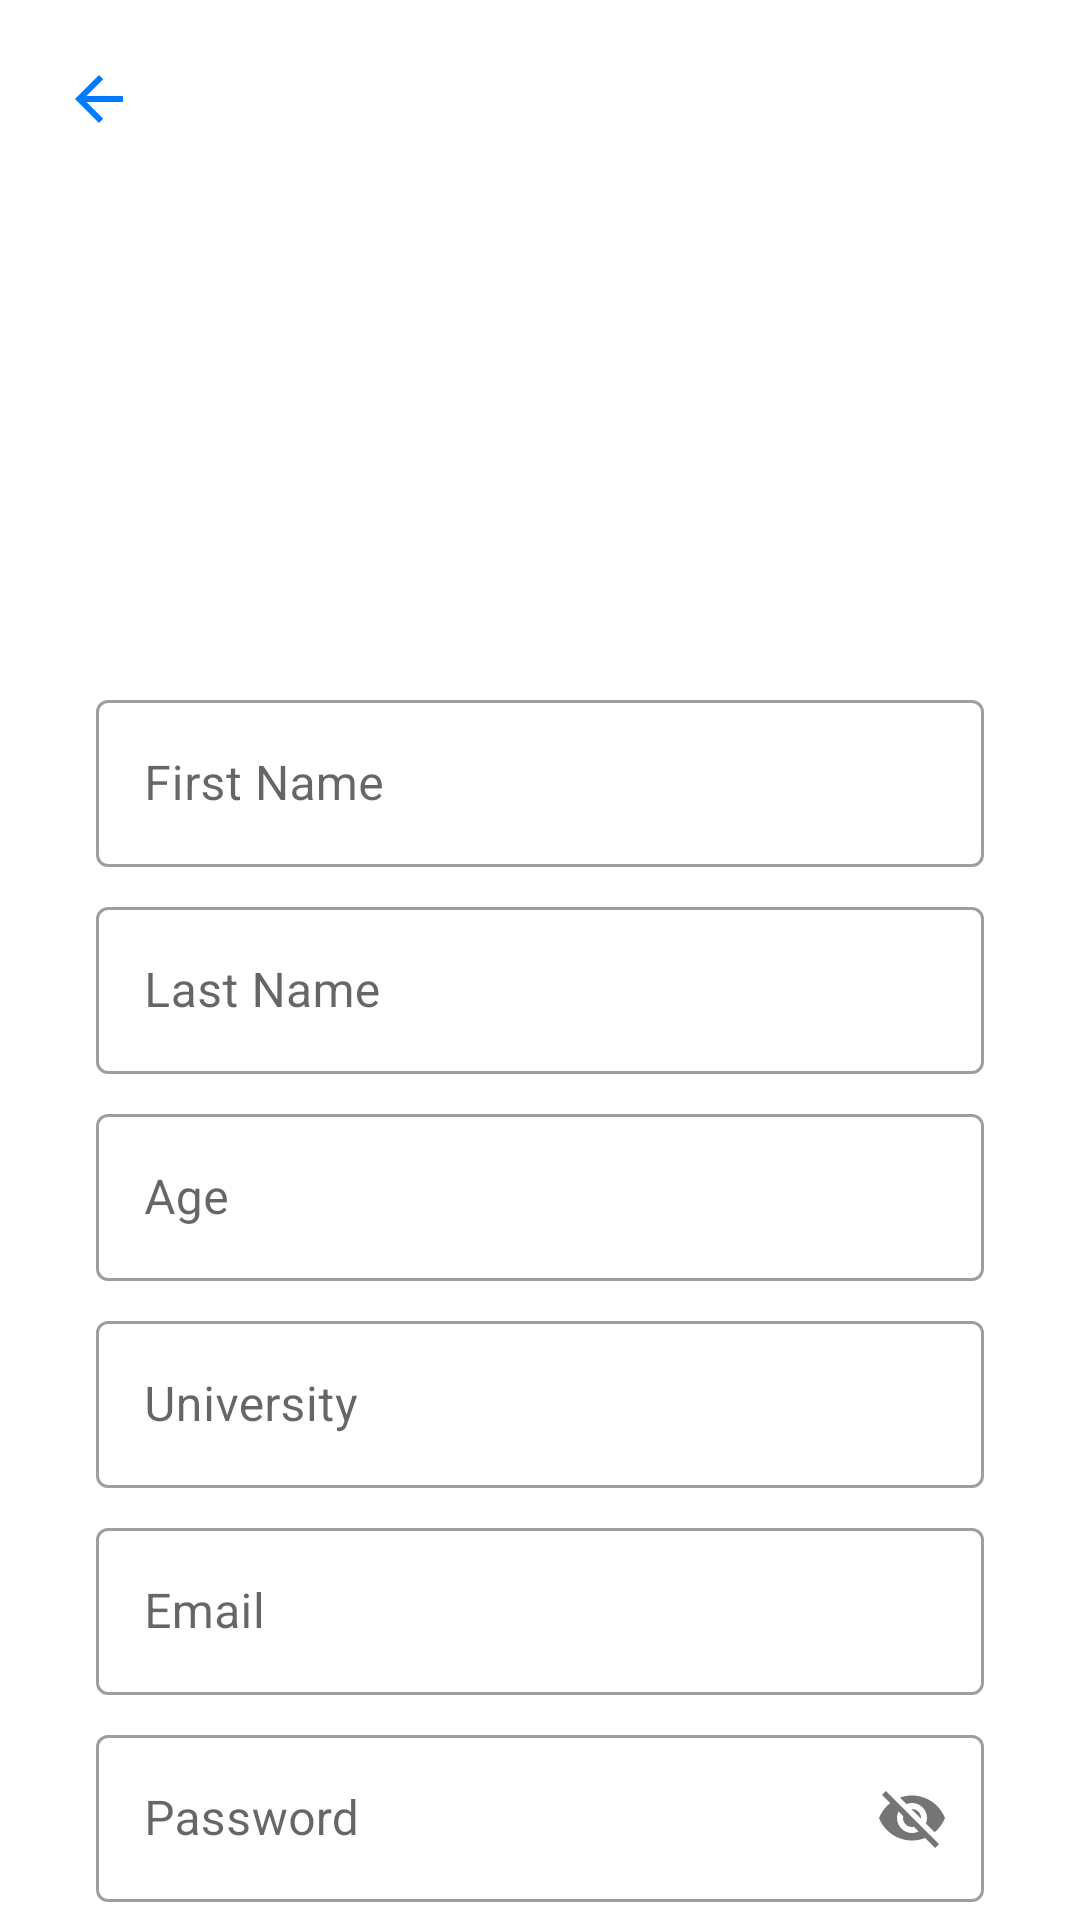

Icon bounding boxes for this 1080 x 1920 phone screenshot, format [x1,y1,x2,y2]:
arrow back: [75,75,123,123]
